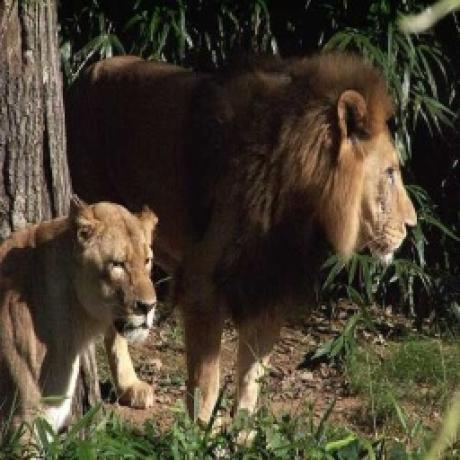Lion: (63, 43, 420, 424), (0, 197, 162, 450)
